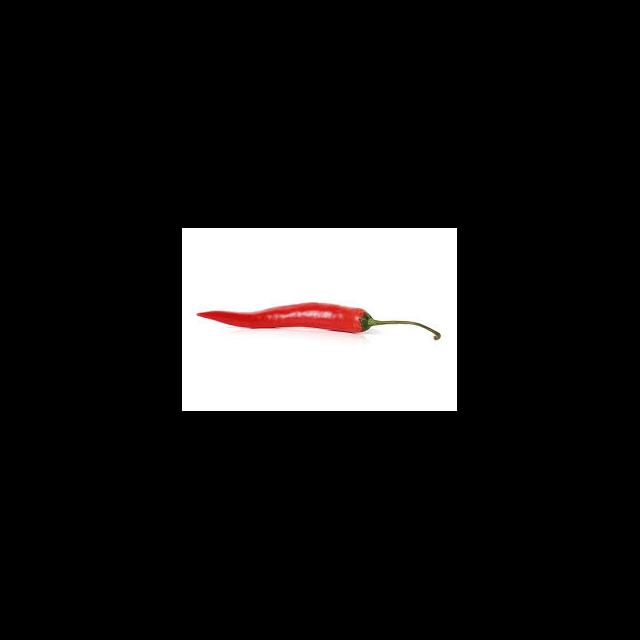chili_pepper: (200, 298, 457, 334)
